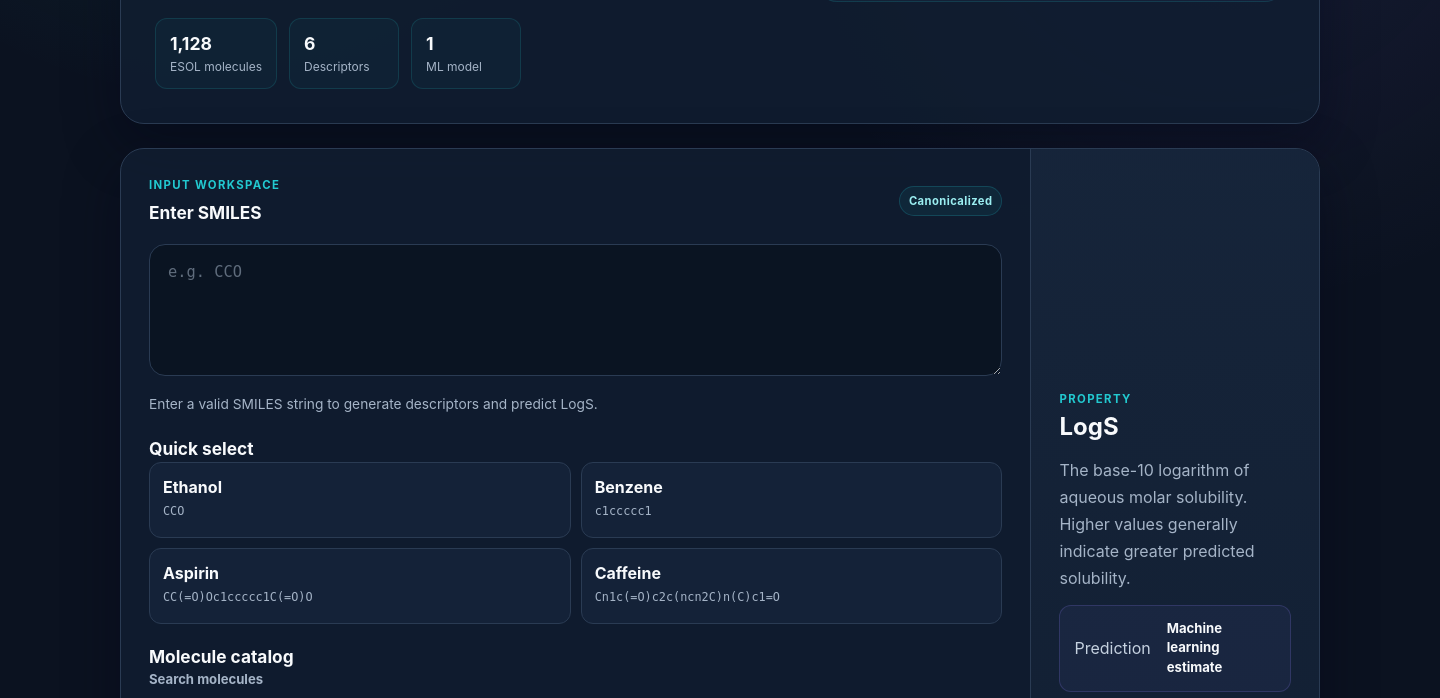
Test case: Molecular Property Predictor › formats the strychnine formula with subscripts
(page scrolled)
In the text box named "SMILES": (576, 310) [149,244,1002,376], type "CCO"
(page scrolled)
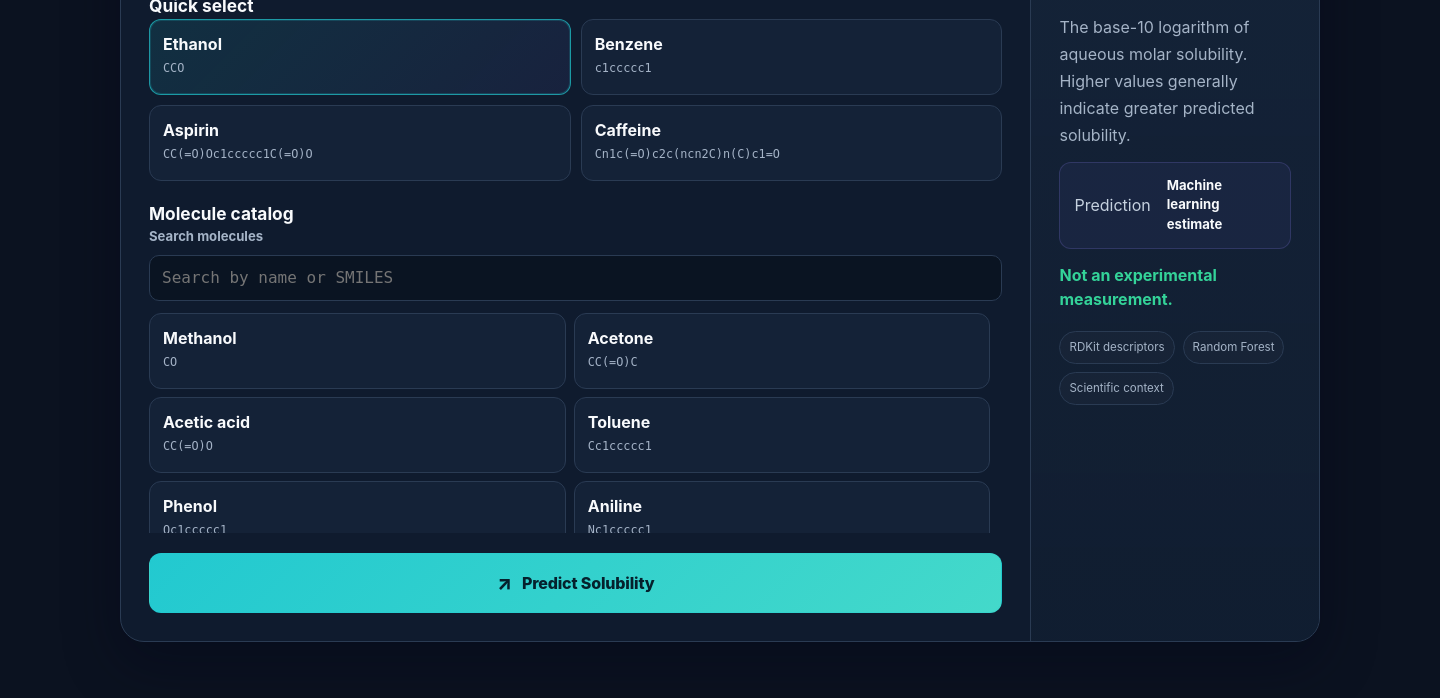
Click the button "↗ Predict Solubility": (576, 583) [149,553,1002,614]
(page scrolled)
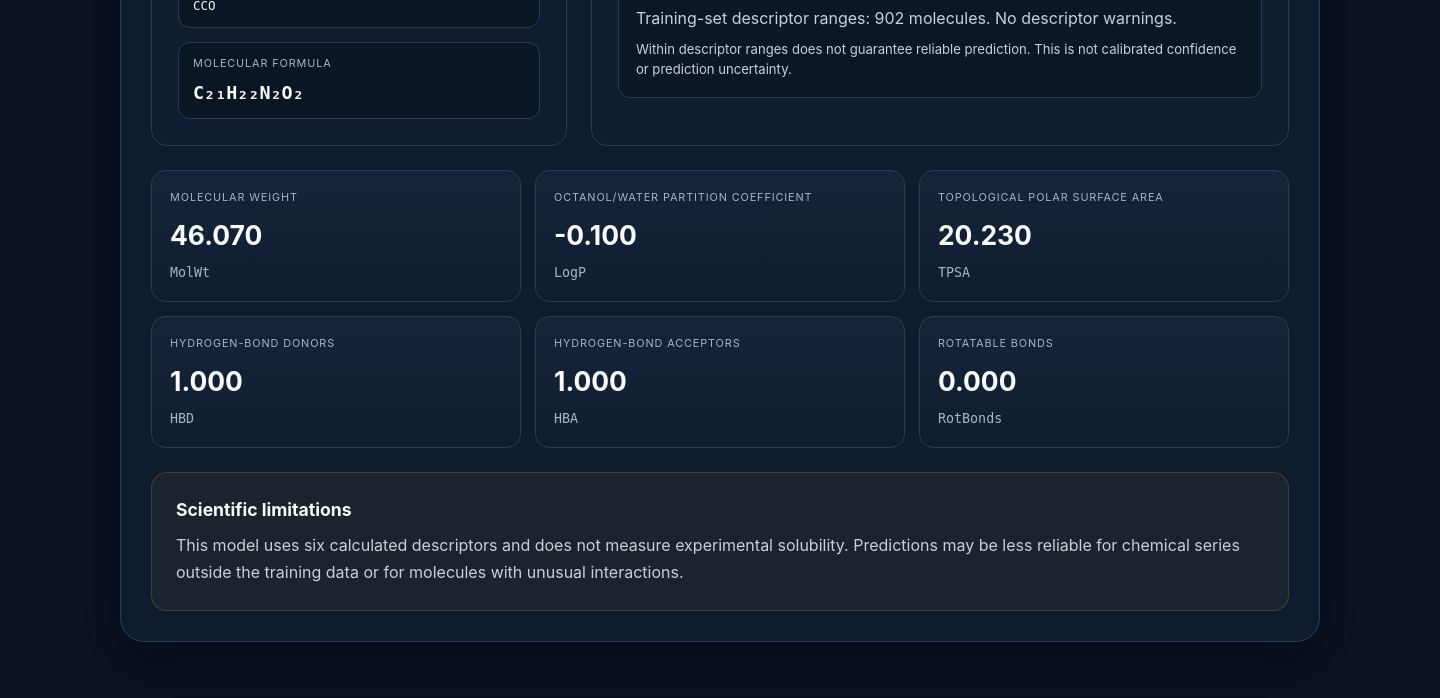
Expected: the text "C₂₁H₂₂N₂O₂" is shown, [193,82,304,103]
